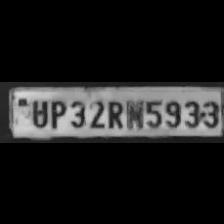2: (88, 96, 104, 128)
3: (66, 96, 86, 128), (200, 96, 220, 128), (182, 96, 200, 127)
5: (144, 94, 162, 128)
9: (163, 96, 181, 127)
N: (125, 95, 143, 129)
P: (47, 96, 66, 128)
R: (104, 96, 124, 128)
U: (28, 96, 48, 128)
